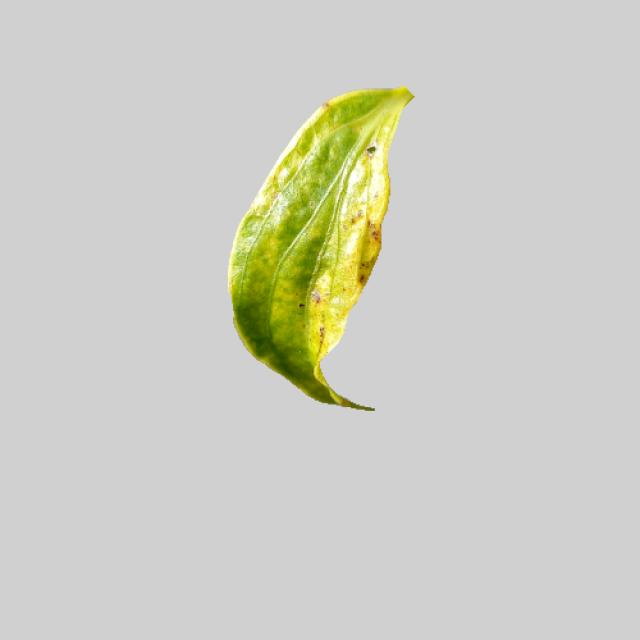yellow-mottle-virus: (211, 83, 419, 411)
